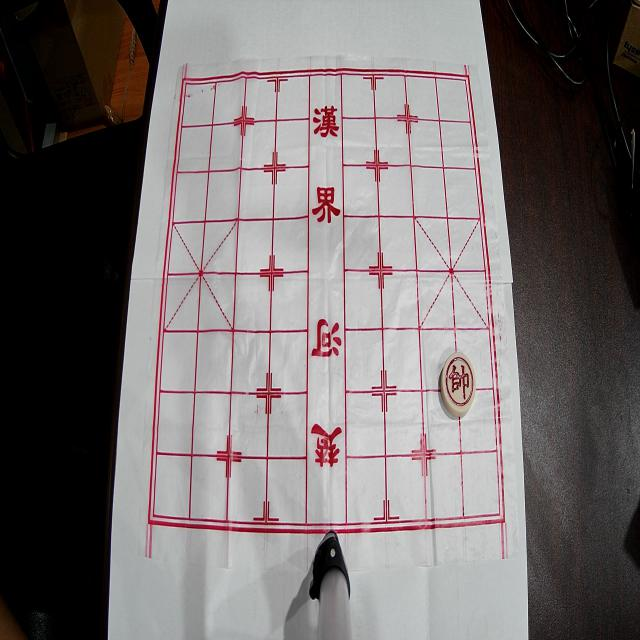red-general: (440, 352, 476, 416)
